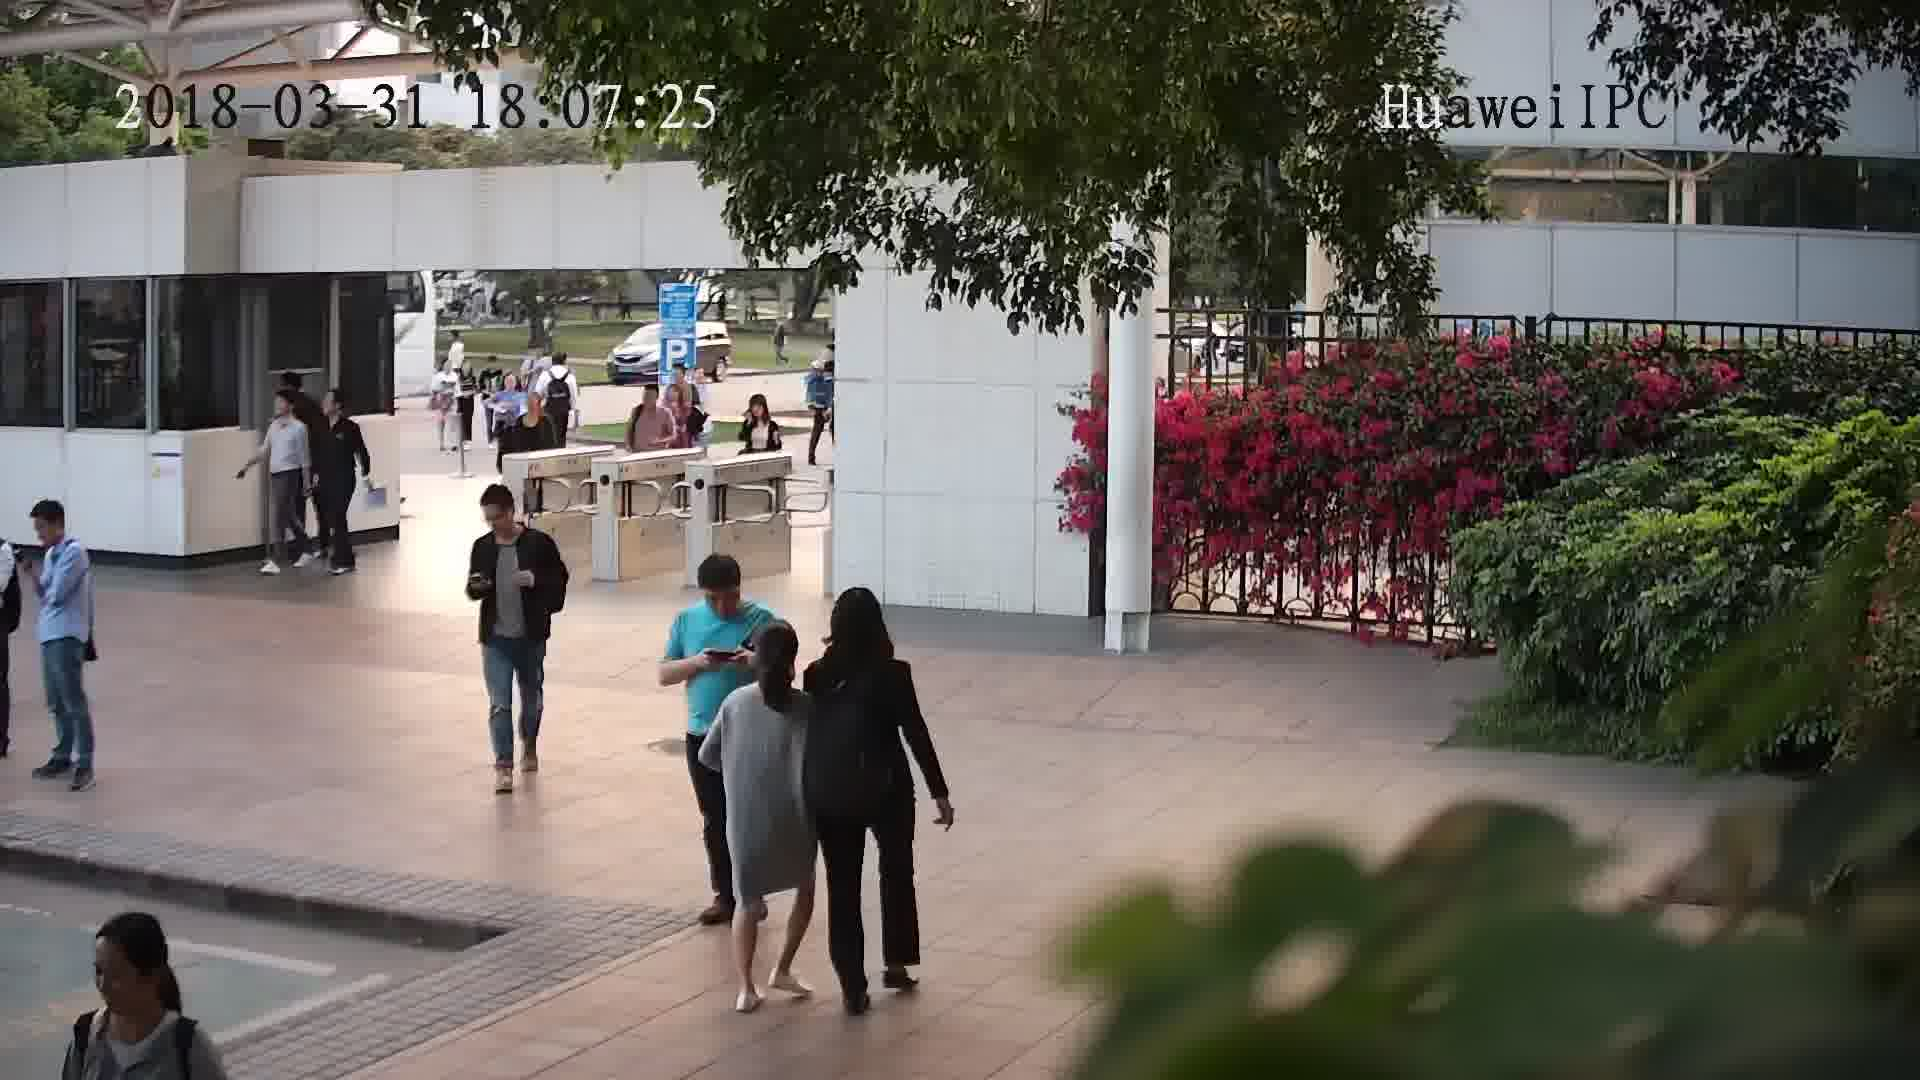face: (77, 936, 157, 1015)
person: (67, 907, 213, 1068), (810, 586, 912, 687), (718, 619, 812, 722), (675, 551, 773, 638), (471, 480, 555, 555), (31, 493, 97, 577), (307, 386, 357, 437), (259, 386, 306, 437), (510, 387, 559, 430), (631, 378, 676, 420), (742, 391, 783, 434), (660, 386, 702, 421), (485, 370, 521, 409), (542, 348, 578, 381), (428, 355, 461, 381)
